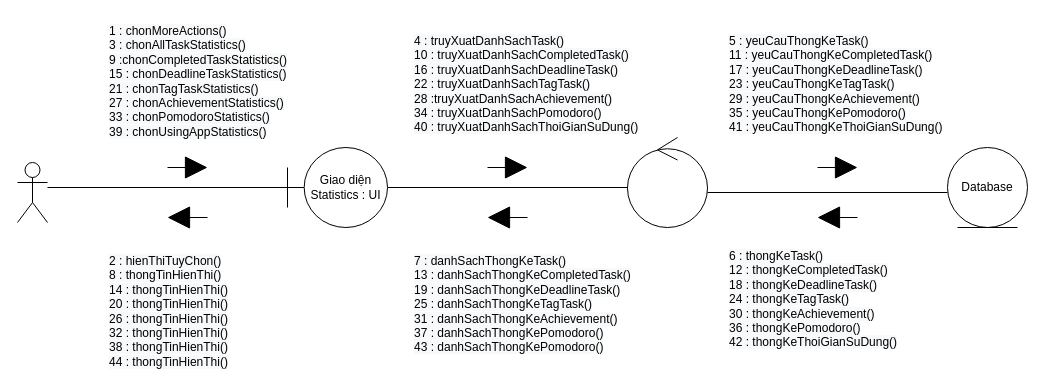
This 1045x386 diagram has some shape labels left out. The shapes that lost their labels are listed below. From the top down, each one's centre as x and y in pixels, then its label:
the point at 32,192: User
the point at 667,182: Statistics : Statistics Controller
